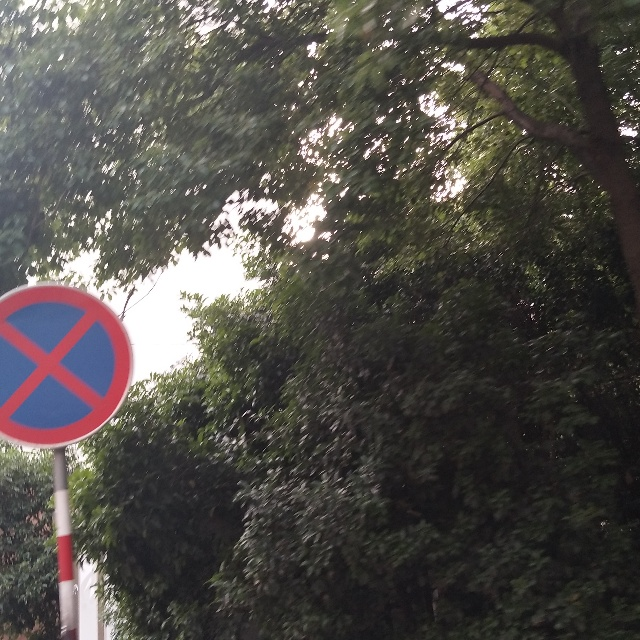stop: (1, 283, 134, 447)
